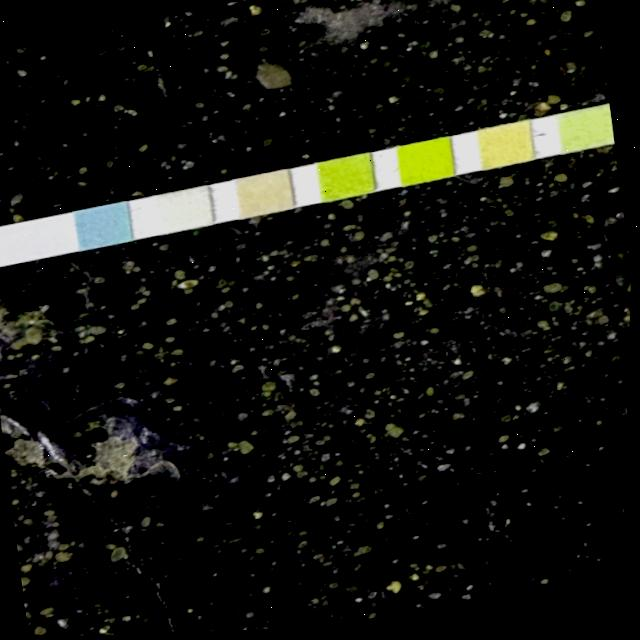Bilirubin: (155, 186, 213, 234)
Blood: (396, 139, 454, 187)
Glucose: (74, 203, 131, 250)
Ketone: (235, 170, 294, 220)
Protein: (556, 109, 614, 156)
SpGravity: (318, 155, 375, 203)
pH: (477, 124, 532, 171)
